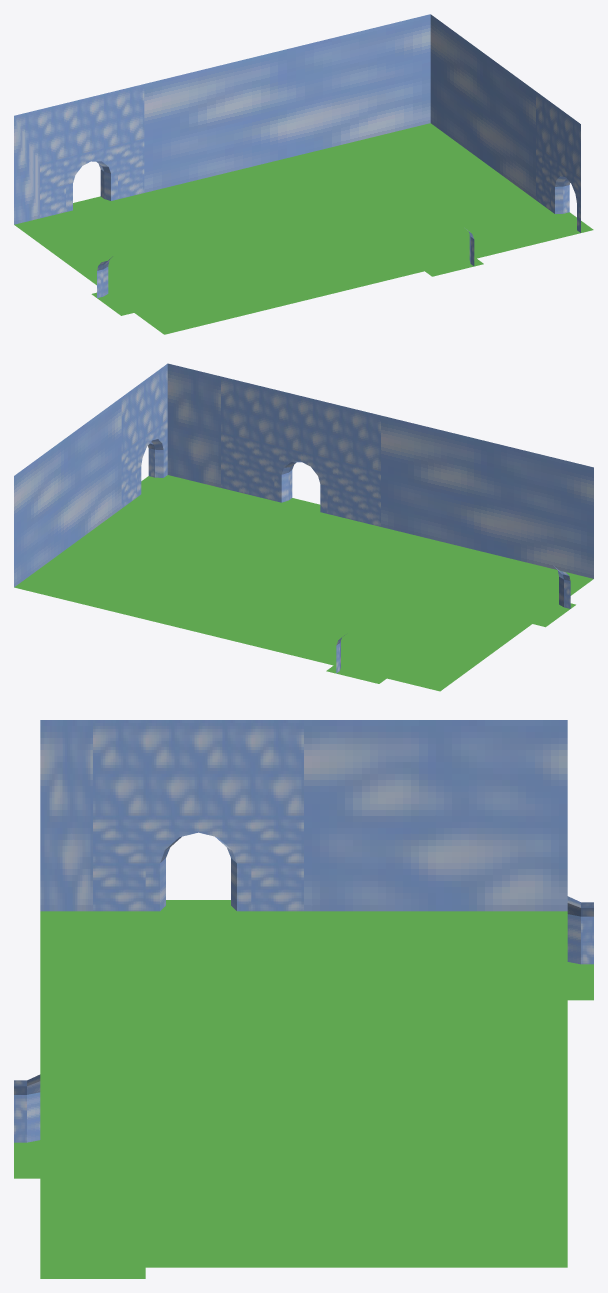
File: Room10.glb
The picture shows the model from 3 angles, top to bottom: view 1: azimuth 30°, elevation 25°; view 2: azimuth 150°, elevation 25°; view 3: azimuth 270°, elevation 25°; orthographic projection. The views are drawn at different scales.
Visible parts, largest first — view 1: polySurface165, Room10_Walls_Wall44.001, Room10_Walls_Wall44, Room10_Walls_Wall36.001, Room10_Walls_Wall36, polySurface165.001; view 2: polySurface165, Room10_Walls_Wall28.001, Room10_Walls_Wall28, Room10_Walls_Wall36.001, Room10_Walls_Wall28.002, Room10_Walls_Wall36, polySurface165.001; view 3: polySurface165, Room10_Walls_Wall6.001, Room10_Walls_Wall6, Room10_Walls_Wall6.002, polySurface165.001, Room10_Walls_Wall28, Room10_Walls_Wall44, polySurface165.002.
Part boxes in pixels (left/top/right/bottom): polySurface165: left=14, top=123, right=580, bottom=334; Room10_Walls_Wall44.001: left=144, top=14, right=430, bottom=192; Room10_Walls_Wall44: left=14, top=84, right=144, bottom=224; Room10_Walls_Wall36.001: left=430, top=14, right=535, bottom=199; Room10_Walls_Wall36: left=536, top=91, right=580, bottom=232; polySurface165.001: left=73, top=196, right=593, bottom=315; polySurface165: left=14, top=475, right=593, bottom=691; Room10_Walls_Wall28.001: left=381, top=415, right=593, bottom=578; Room10_Walls_Wall28: left=221, top=376, right=380, bottom=526; Room10_Walls_Wall36.001: left=14, top=397, right=121, bottom=587; Room10_Walls_Wall28.002: left=167, top=363, right=220, bottom=487; Room10_Walls_Wall36: left=121, top=364, right=167, bottom=508; polySurface165.001: left=141, top=476, right=575, bottom=683; polySurface165: left=40, top=911, right=567, bottom=1267; Room10_Walls_Wall6.001: left=304, top=720, right=567, bottom=911; Room10_Walls_Wall6: left=93, top=720, right=303, bottom=911; Room10_Walls_Wall6.002: left=40, top=720, right=92, bottom=911; polySurface165.001: left=40, top=900, right=593, bottom=1278; Room10_Walls_Wall28: left=14, top=1074, right=40, bottom=1142; Room10_Walls_Wall44: left=567, top=896, right=593, bottom=964; polySurface165.002: left=14, top=1140, right=40, bottom=1178.
Size of the model in its own units: 17 by 4 by 11.
2 materials, 1 textured.
